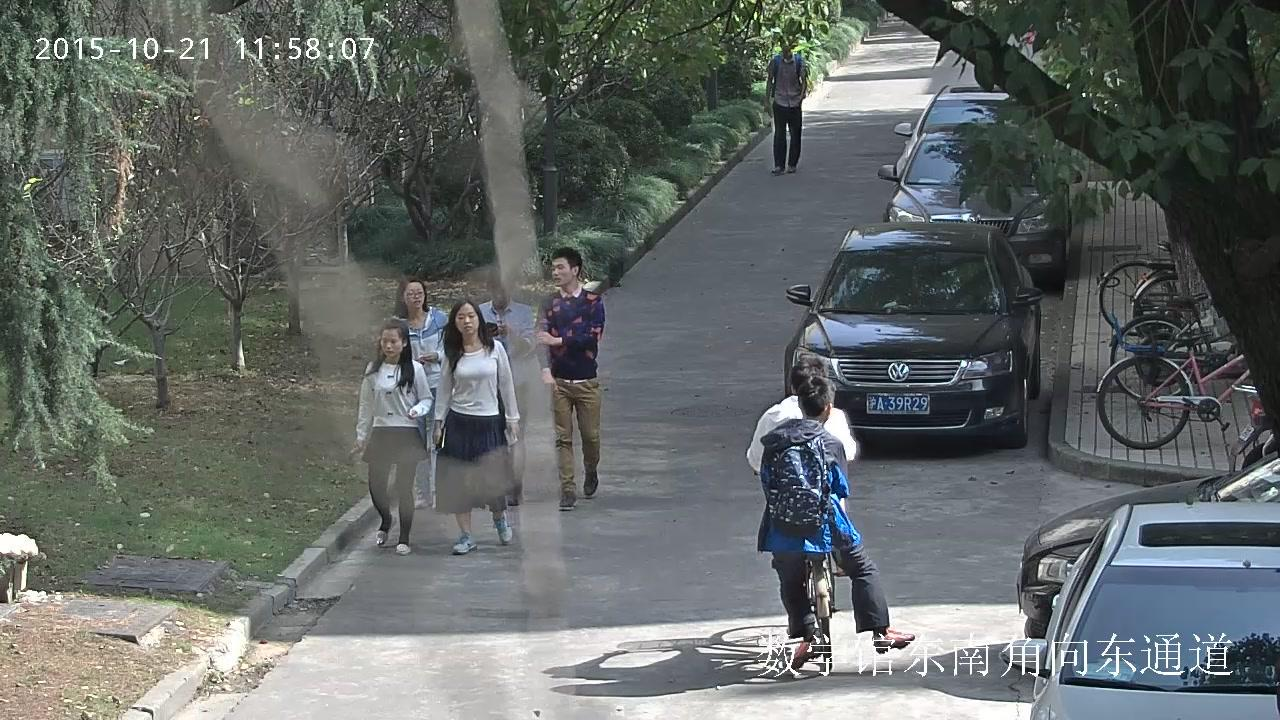person: (746, 357, 915, 674), (757, 376, 915, 669), (746, 357, 858, 636), (433, 299, 520, 553), (345, 315, 432, 555), (535, 246, 605, 510), (475, 266, 538, 505), (388, 276, 448, 509), (763, 35, 807, 174)
